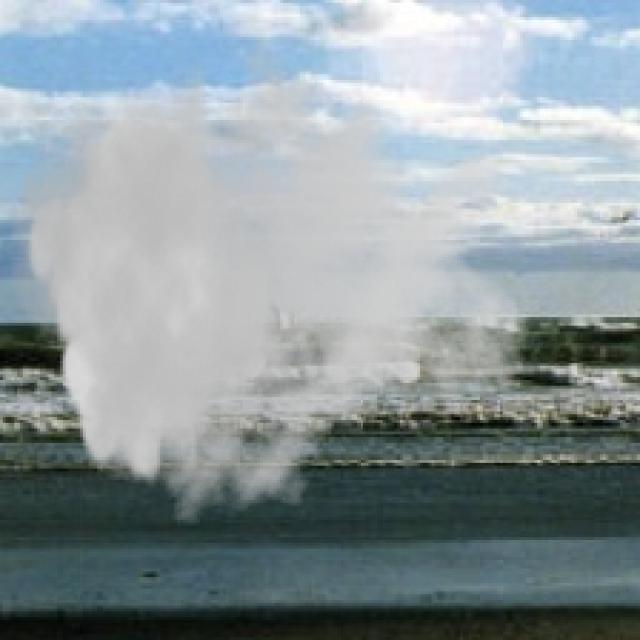smoke: (9, 9, 532, 534)
